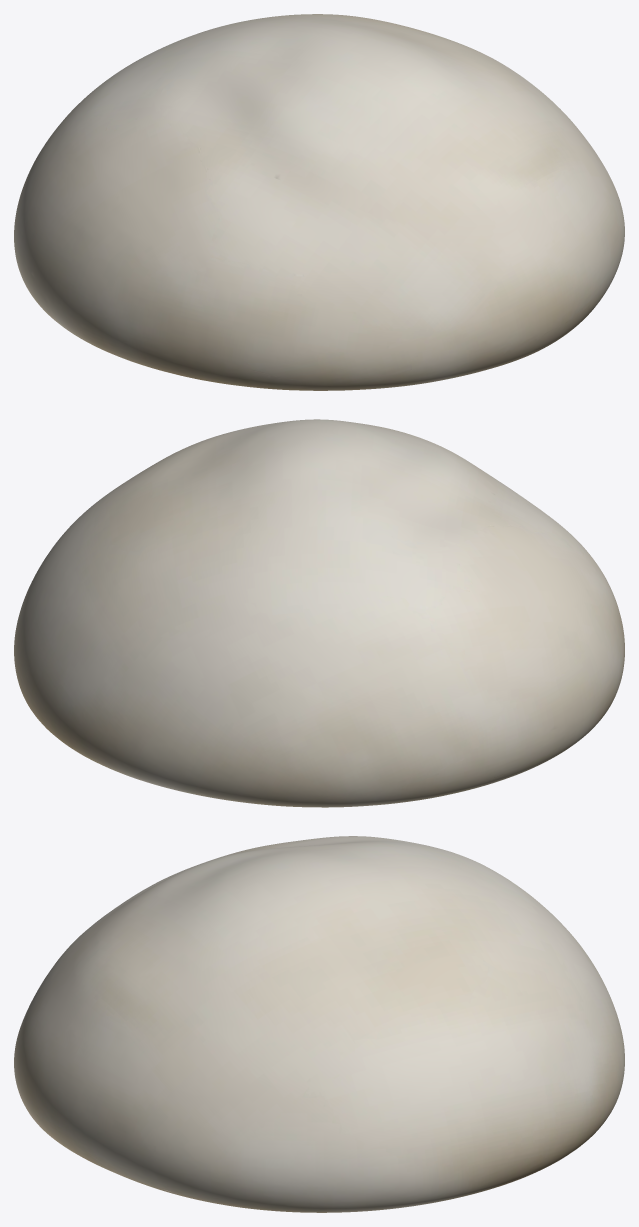
The model's file is mochi.glb.
3 renders of one model, top to bottom at view 1: azimuth 30°, elevation 25°; view 2: azimuth 150°, elevation 25°; view 3: azimuth 270°, elevation 25°, orthographic.
Parts seen in each view (by area): view 1: node_0; view 2: node_0; view 3: node_0.
Boxes of the visible parts, box(x1,y1,x2,y2) form: node_0: box(14, 14, 624, 390); node_0: box(14, 419, 624, 807); node_0: box(14, 836, 624, 1212).
Bounding box in the file's own units: 1.13 × 0.4721 × 1.13.
1 material, 1 textured.
